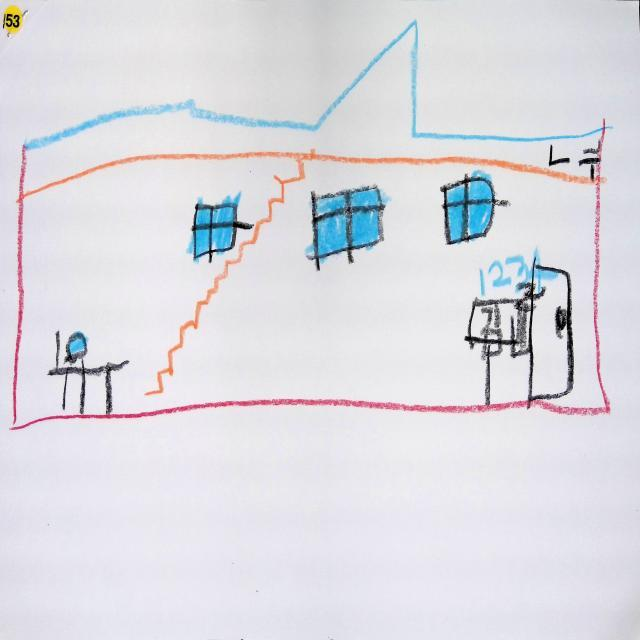door: (527, 249, 575, 404)
house: (6, 14, 614, 433)
roof: (14, 16, 608, 199)
wall: (3, 164, 622, 420)
window: (307, 186, 386, 270), (444, 173, 510, 244), (192, 193, 253, 262)
